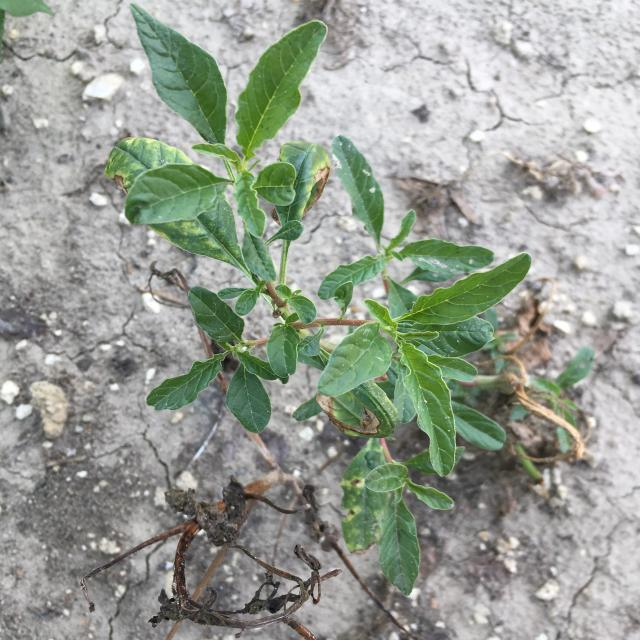Waterhemp: (103, 4, 595, 598)
